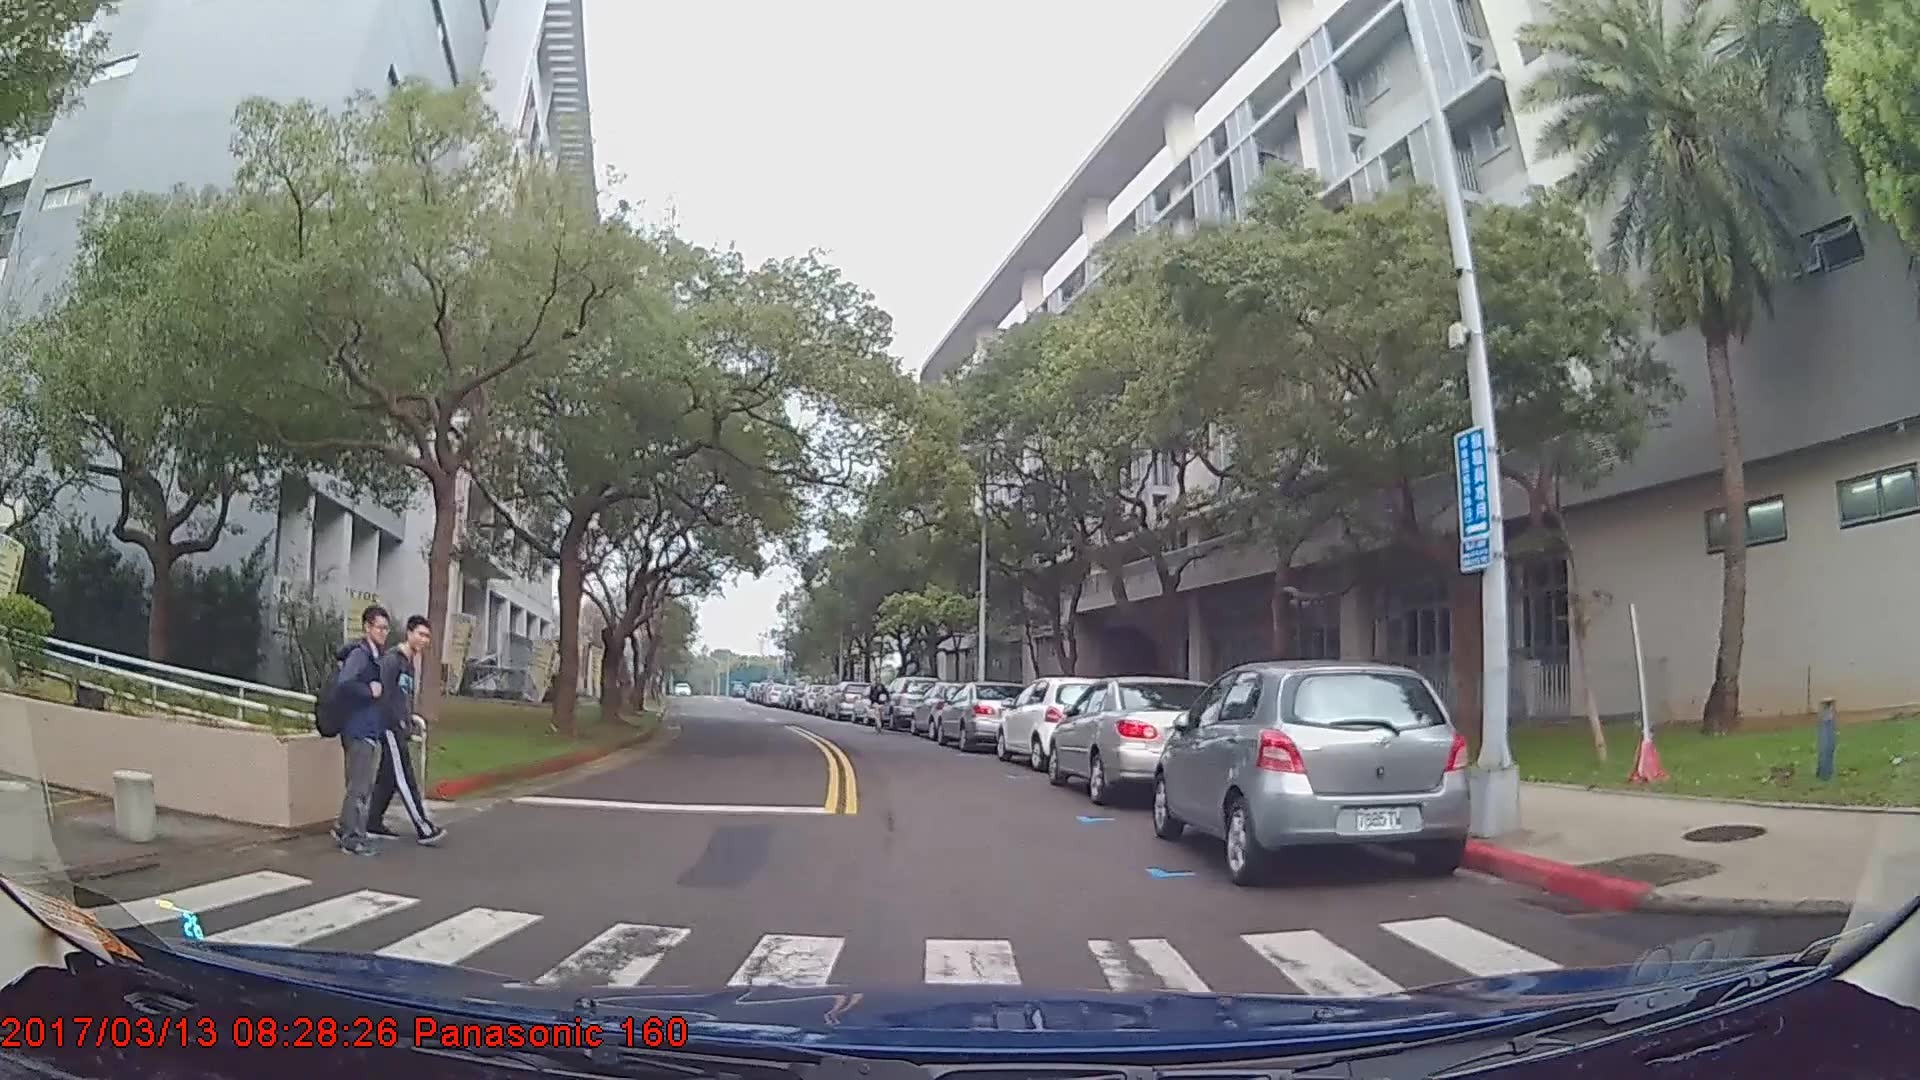pedestrian: (299, 610, 397, 864), (357, 617, 449, 853), (869, 676, 892, 736)
vehicle: (1153, 658, 1473, 890), (1047, 677, 1237, 806), (996, 676, 1118, 772), (935, 678, 1031, 751), (911, 679, 988, 740), (875, 674, 940, 729), (827, 681, 877, 719)
